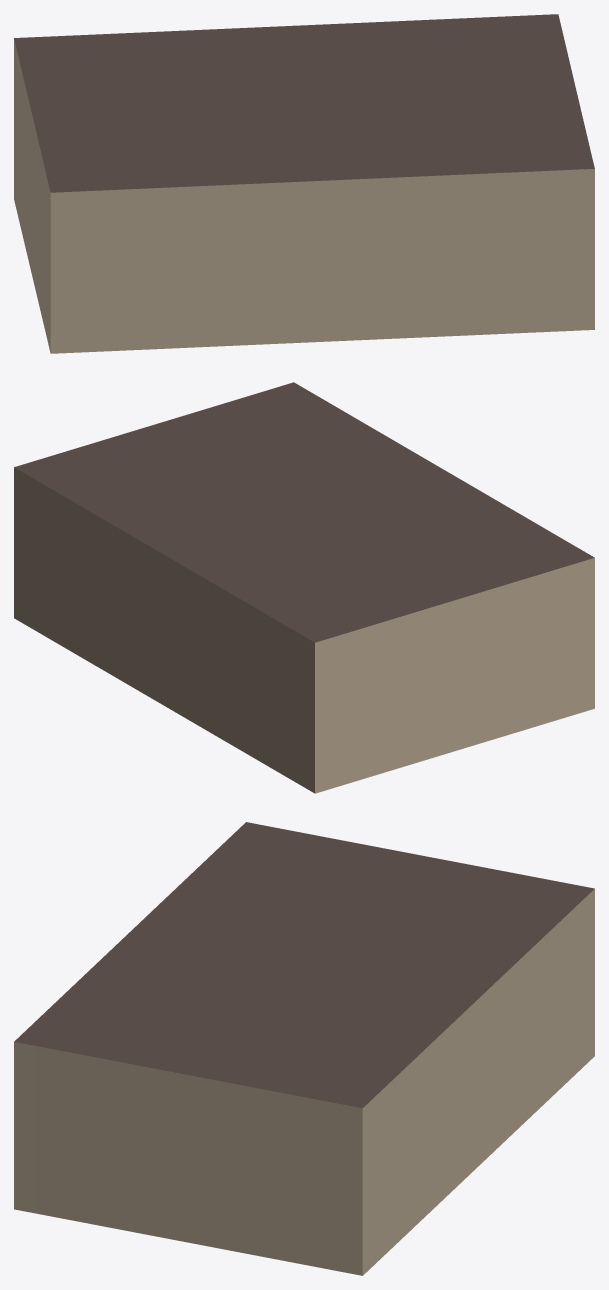
3 renders of one model, top to bottom at view 1: azimuth 30°, elevation 25°; view 2: azimuth 150°, elevation 25°; view 3: azimuth 270°, elevation 25°, orthographic. The views are drawn at different scales.
Visible parts, largest first — view 1: HP-w859082563; view 2: HP-w859082563; view 3: HP-w859082563.
Boxes of the visible parts, box(x1,y1,x2,y2) form: HP-w859082563: box(14, 14, 594, 353); HP-w859082563: box(14, 382, 594, 793); HP-w859082563: box(14, 822, 594, 1275).
Size of the model in its own units: 32.97 by 9 by 28.27.
